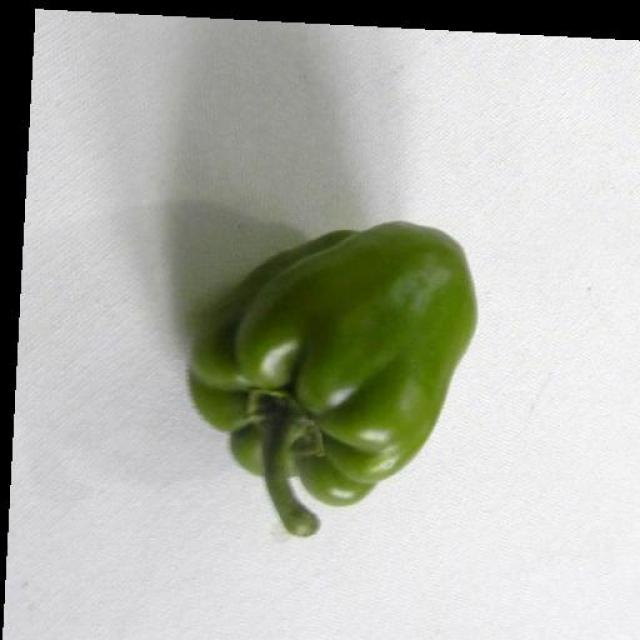Fresh_Capsicum: (168, 189, 464, 546)
